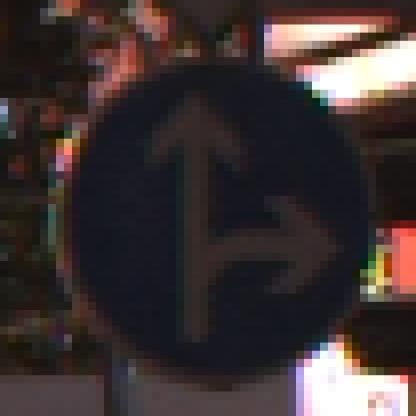Straight or Right: (49, 42, 377, 376)
